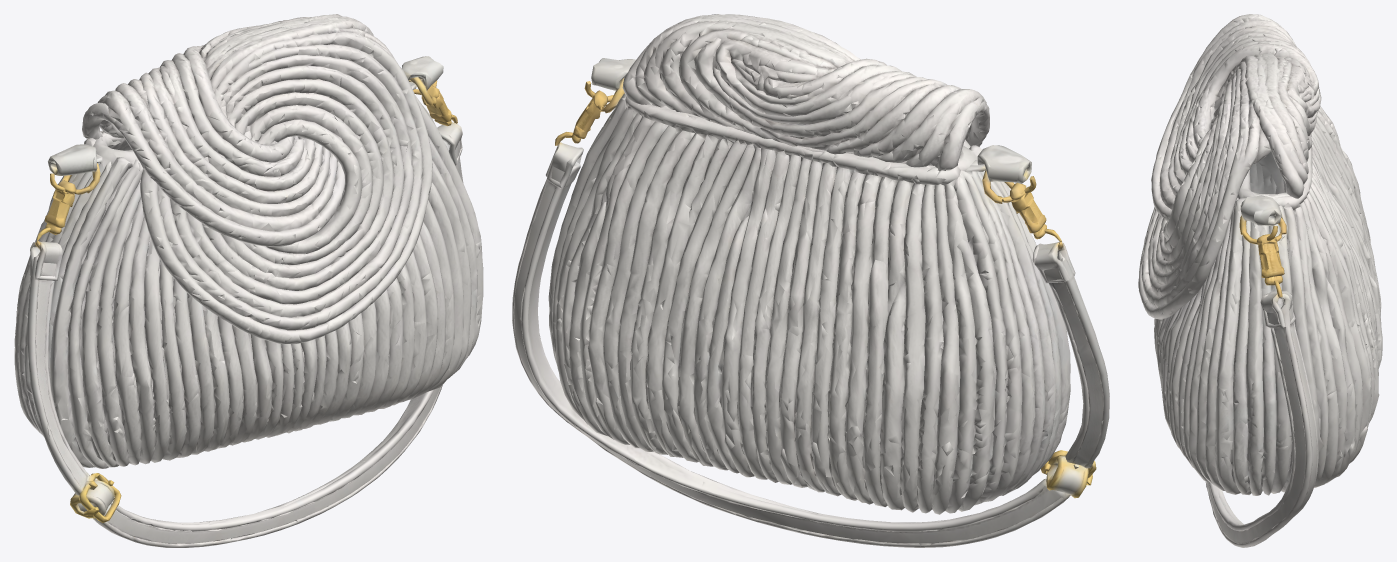
The model's file is crescent-reference-ar.glb.
The picture shows the model from 3 angles, left to right: view 1: azimuth 30°, elevation 25°; view 2: azimuth 150°, elevation 25°; view 3: azimuth 270°, elevation 25°; orthographic projection. The views are drawn at different scales.
Parts seen in each view (by area): view 1: root.2, root.1, root.3, root.0, root.4; view 2: root.1, root.2, root.3, root.0, root.4; view 3: root.1, root.2, root.3, root.4.
Part boxes in pixels (<box>): root.2: <box>82,14,432,343</box>; root.1: <box>14,56,483,468</box>; root.3: <box>27,122,463,547</box>; root.0: <box>37,172,90,240</box>; root.4: <box>413,80,457,126</box>; root.1: <box>548,58,1070,514</box>; root.2: <box>622,14,989,171</box>; root.3: <box>512,142,1109,547</box>; root.0: <box>999,176,1061,241</box>; root.4: <box>555,81,624,145</box>; root.1: <box>1154,106,1382,495</box>; root.2: <box>1138,14,1321,319</box>; root.3: <box>1205,291,1318,547</box>; root.4: <box>1242,225,1284,297</box>.
Size of the model in its own units: 0.4174 by 0.3909 by 0.1914.
Materials: 5 (5 with a texture image).
